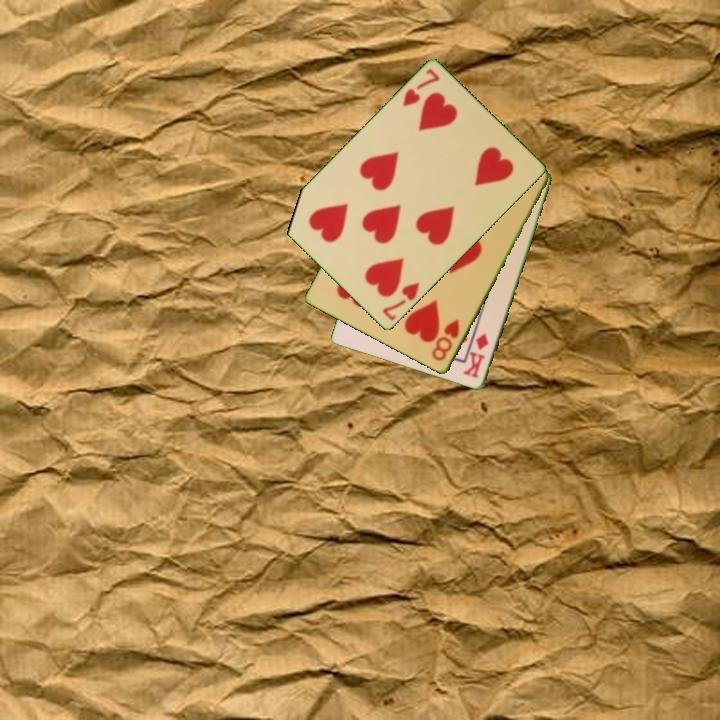7h: (399, 66, 443, 110), (379, 279, 422, 324)
8h: (428, 316, 463, 365)
Kd: (461, 330, 492, 381)
